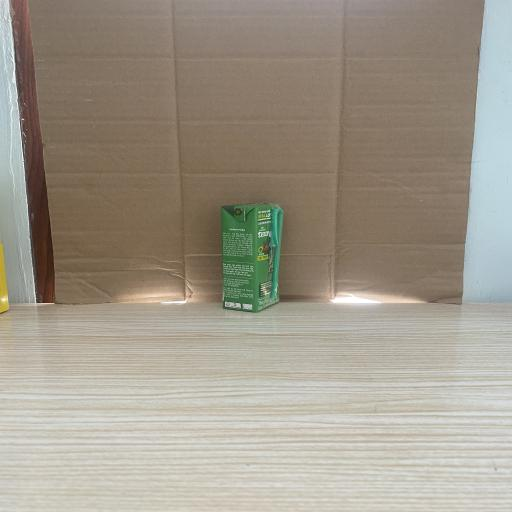milo: (220, 202, 284, 312)
